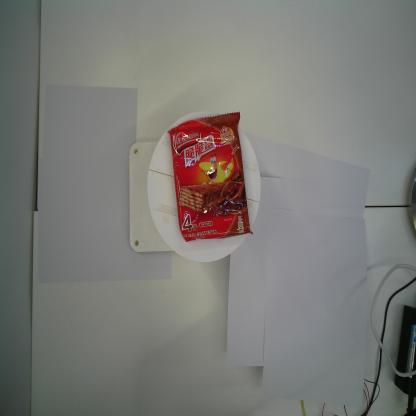Dessert: (168, 111, 253, 242)
